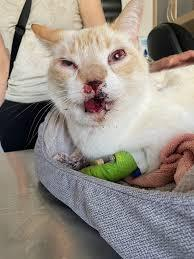bleeding: (77, 80, 114, 130)
